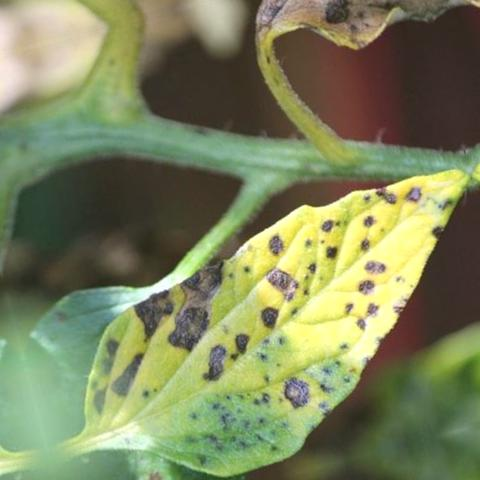Tomato Septoria leaf spot: (42, 144, 480, 480)
